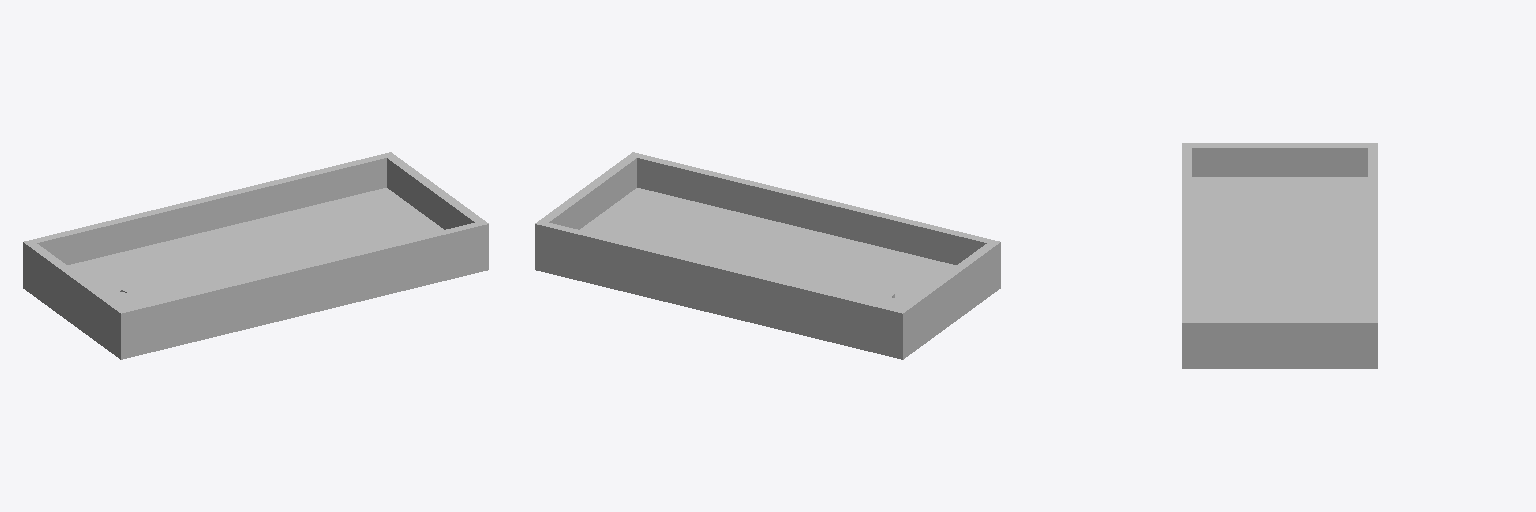
Rendered from Board1.obj.
The picture shows the model from 3 angles: view 1: azimuth 30°, elevation 25°; view 2: azimuth 150°, elevation 25°; view 3: azimuth 270°, elevation 25°; orthographic projection.
Parts seen in each view (by area): view 1: Cube; view 2: Cube; view 3: Cube.
Part boxes in pixels (x1,y1,x2,y2): Cube: (23, 152, 488, 359); Cube: (535, 152, 1000, 359); Cube: (1182, 143, 1377, 368).
Bounding box in the file's own units: 2.6 × 0.312 × 1.2.